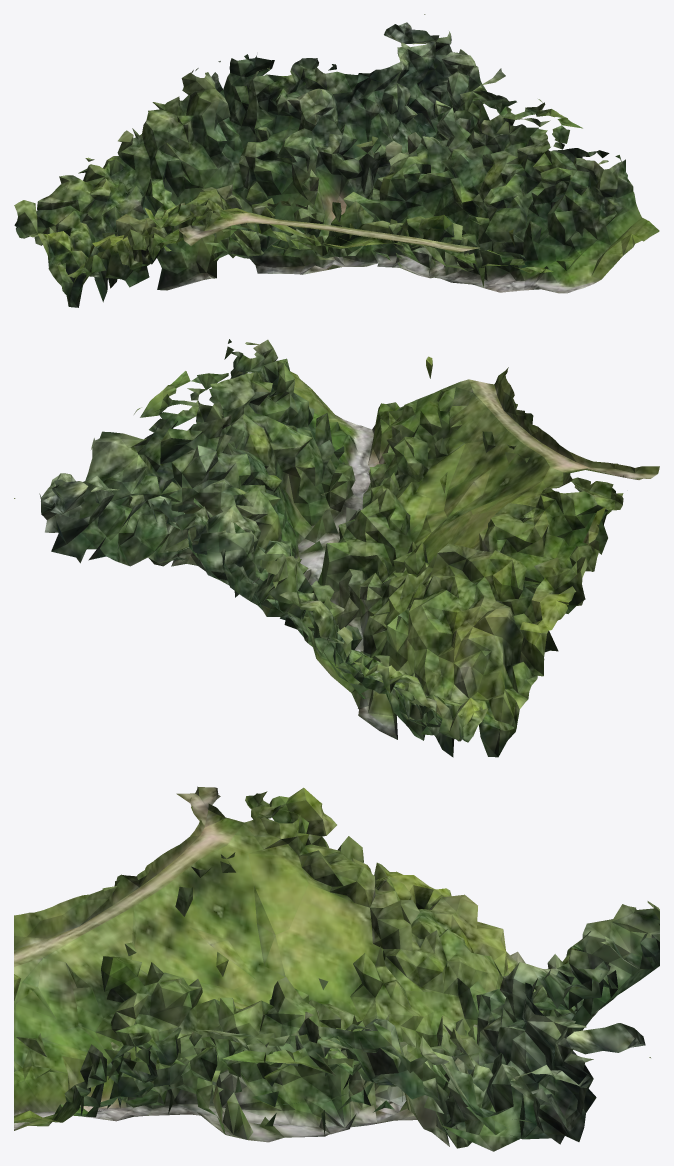
The picture shows the model from 3 angles, top to bottom: view 1: azimuth 30°, elevation 25°; view 2: azimuth 150°, elevation 25°; view 3: azimuth 270°, elevation 25°; orthographic projection. The views are drawn at different scales.
Bounding box in the file's own units: 209 × 84.66 × 209.
Materials: 6 (6 with a texture image).
